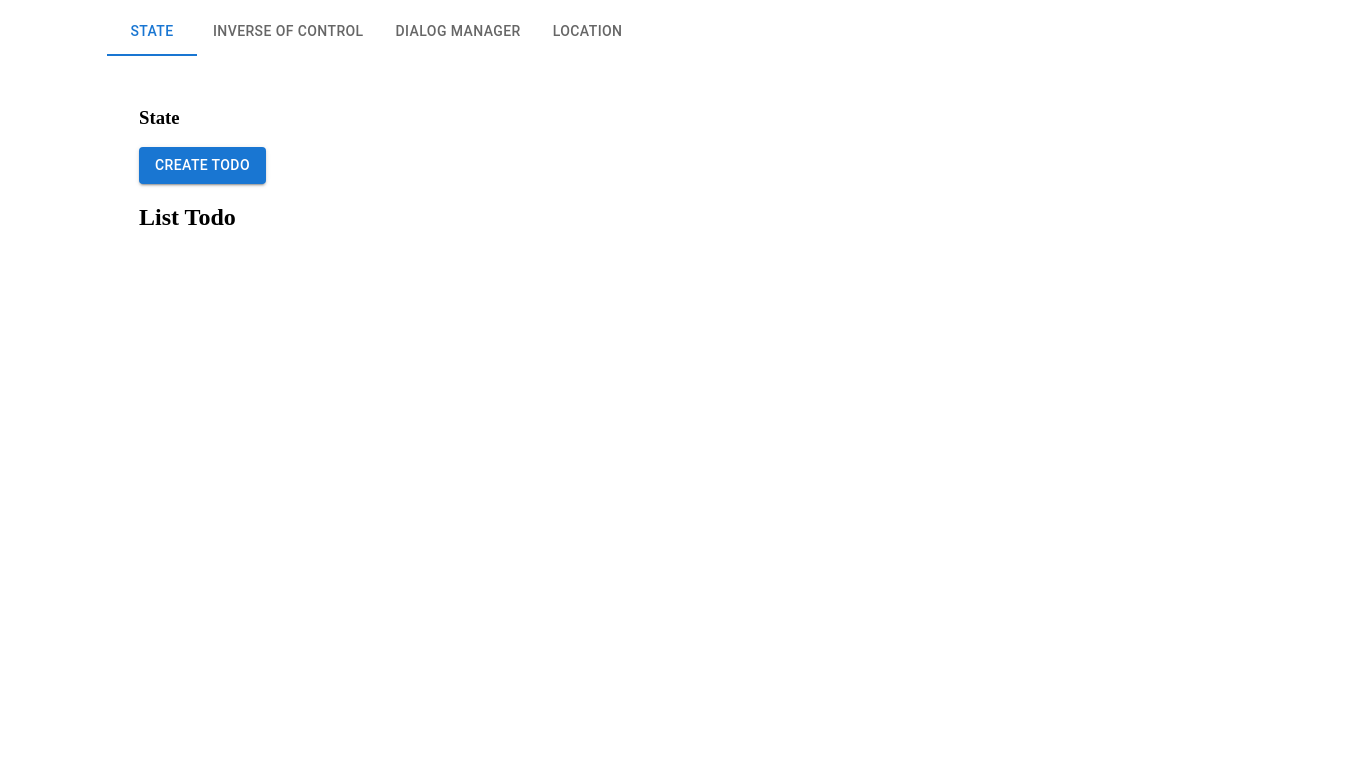
Scenario: ListPage test suite › should open create modal in state page
The image size is (1366, 768).
What coordinates should you click on to do the following:
click the button "Create Todo"
I would click on:
 (202, 166)
Its box is [139,147,266,184].
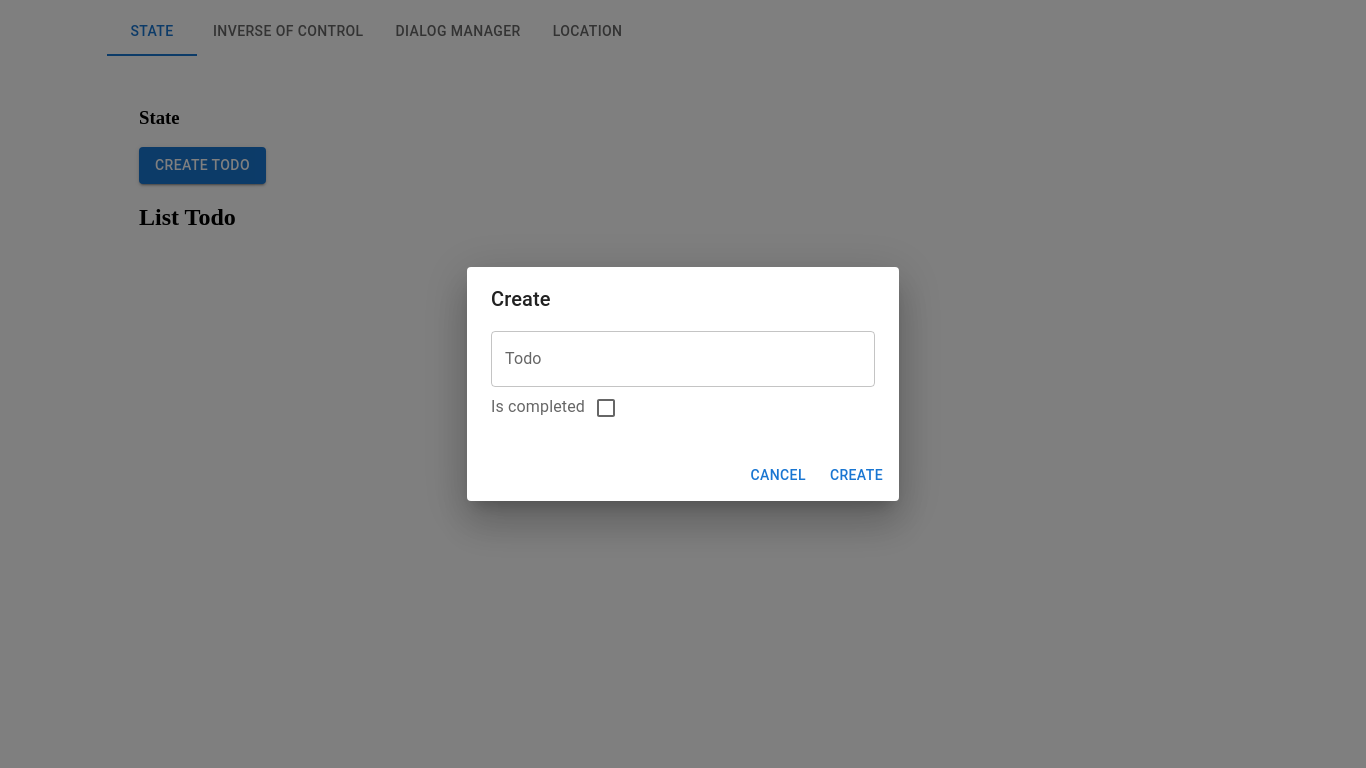
Now the heading "Create" is shown, box [491,287,551,311]
